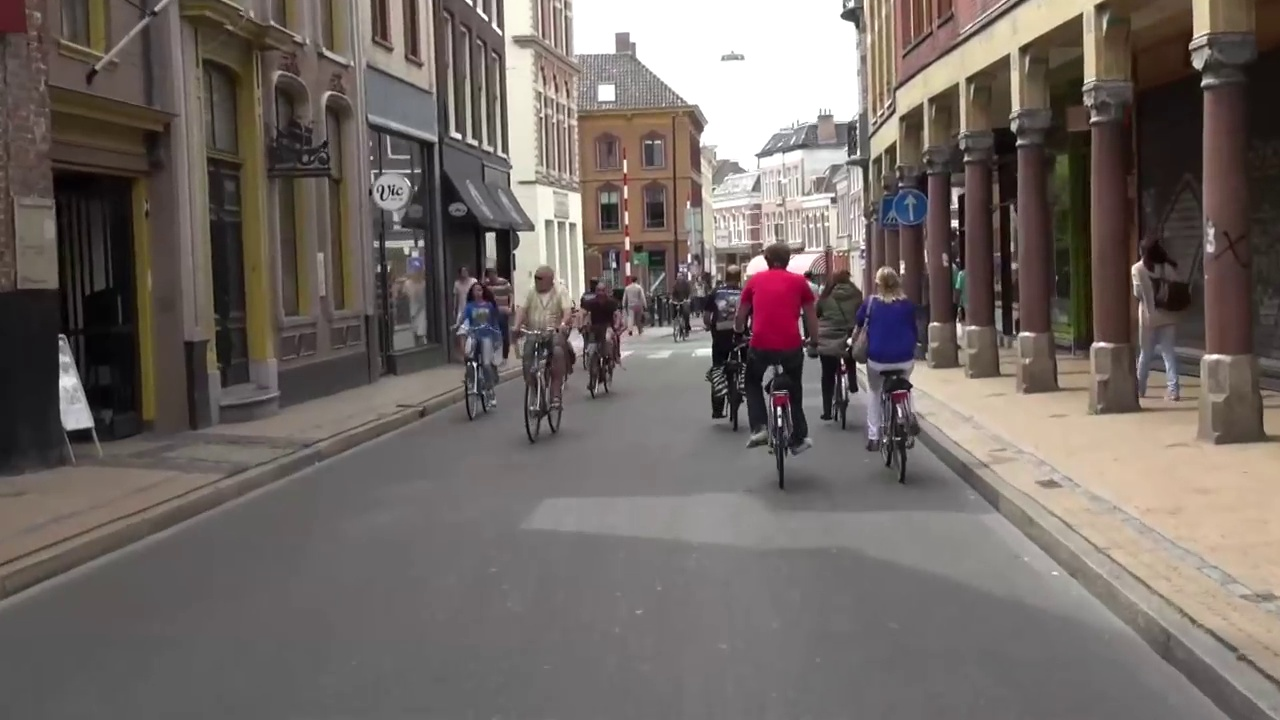cyclist_back: (745, 241, 816, 493), (858, 263, 925, 487), (813, 259, 872, 434), (704, 265, 756, 433)
cyclist_front: (513, 258, 580, 441), (456, 276, 507, 425), (578, 271, 631, 408), (663, 266, 692, 345)
